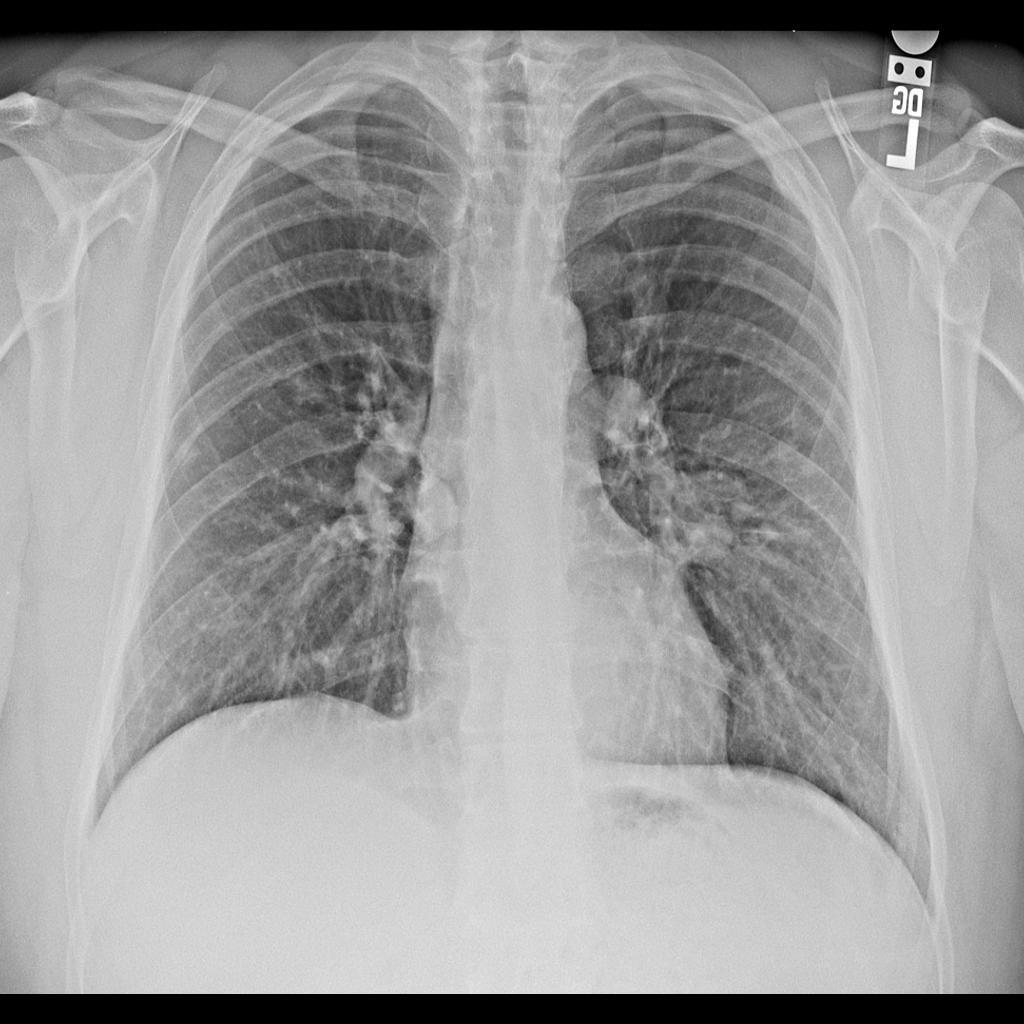Nodule: (646, 460, 770, 574), (170, 438, 209, 475)
